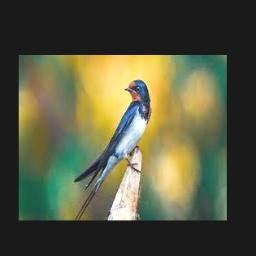Swallow: (74, 80, 150, 220)
